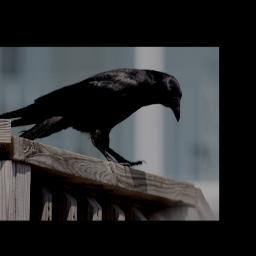Crow: (0, 67, 183, 167)
